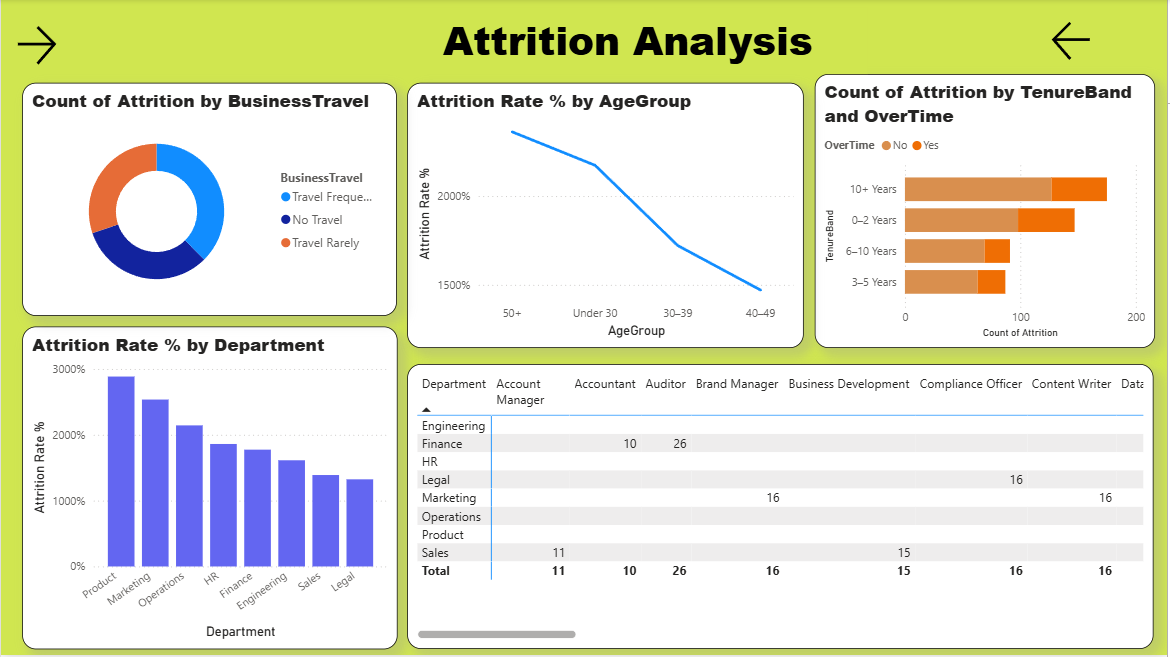

This screenshot's page, from the dashboard's own definition file:
{"tool":"powerbi","page":{"name":"Page 2","canvas":[1280,720],"ordinal":1},"visuals":[{"type":"columnChart","fields":{"Category":["HR_Analytics_Dataset.Department"],"Y":["HR_Analytics_Dataset.Attrition Rate %"]},"box":[23.3,359.5,411.7,354],"z":0},{"type":"barChart","fields":{"Category":["HR_Analytics_Dataset.TenureBand"],"Y":["CountNonNull(HR_Analytics_Dataset.Attrition)"],"Series":["HR_Analytics_Dataset.OverTime"]},"box":[893.3,82.3,373.2,300.5],"z":1000},{"type":"lineChart","fields":{"Category":["HR_Analytics_Dataset.AgeGroup"],"Y":["HR_Analytics_Dataset.Attrition Rate %"]},"box":[446,91.9,435,290.9],"z":2000},{"type":"pivotTable","fields":{"Rows":["HR_Analytics_Dataset.Department"],"Columns":["HR_Analytics_Dataset.JobRole"],"Values":["CountNonNull(HR_Analytics_Dataset.Attrition)"]},"box":[446.4,400.5,819.2,312.5],"z":3000},{"type":"donutChart","fields":{"Category":["HR_Analytics_Dataset.BusinessTravel"],"Y":["CountNonNull(HR_Analytics_Dataset.Attrition)"]},"box":[22.9,91.7,411.4,255.8],"z":4000},{"type":"actionButton","box":[6.9,19.2,86.4,63.1],"z":5000},{"type":"textbox","box":[425.4,9.6,525.6,72.7],"z":6000},{"type":"actionButton","box":[1148.5,19.2,59,53.5],"z":7000}]}

Visuals, with their boxes in screenshot pixels (x1, y1, x2, y2), scaled from the page's 1280x720 canvas onto the 1170x657 screenshot:
columnChart - HR_Analytics_Dataset.Department x HR_Analytics_Dataset.Attrition Rate %: <bbox>21, 328, 398, 651</bbox>
barChart - HR_Analytics_Dataset.TenureBand x CountNonNull(HR_Analytics_Dataset.Attrition): <bbox>817, 75, 1158, 349</bbox>
lineChart - HR_Analytics_Dataset.AgeGroup x HR_Analytics_Dataset.Attrition Rate %: <bbox>408, 84, 805, 349</bbox>
pivotTable - HR_Analytics_Dataset.Department x HR_Analytics_Dataset.JobRole: <bbox>408, 365, 1157, 651</bbox>
donutChart - HR_Analytics_Dataset.BusinessTravel x CountNonNull(HR_Analytics_Dataset.Attrition): <bbox>21, 84, 397, 317</bbox>
actionButton: <bbox>6, 18, 85, 75</bbox>
textbox: <bbox>389, 9, 869, 75</bbox>
actionButton: <bbox>1050, 18, 1104, 66</bbox>
